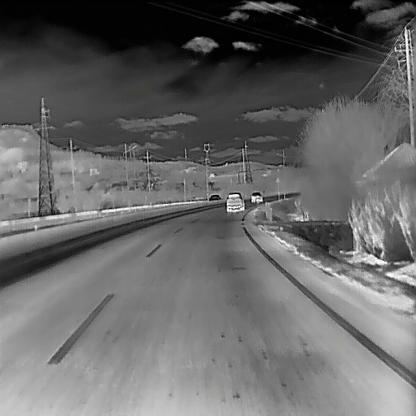car: (225, 191, 244, 212), (250, 190, 261, 203)
